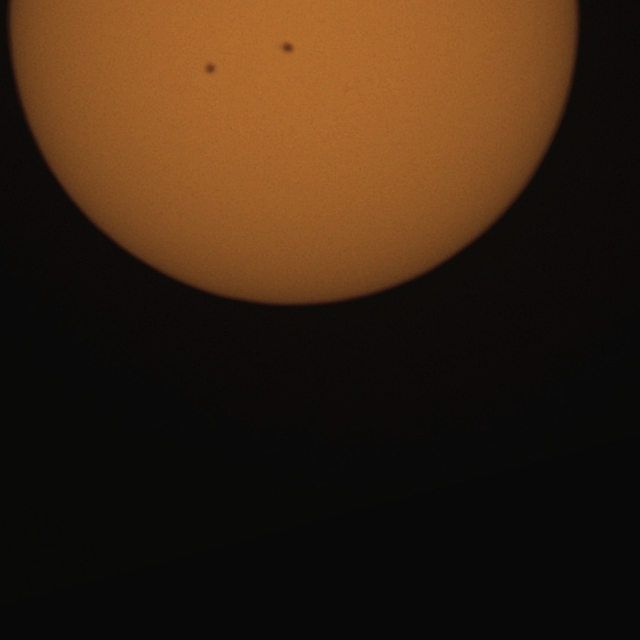sunspot: (278, 40, 296, 56), (202, 61, 217, 77)
